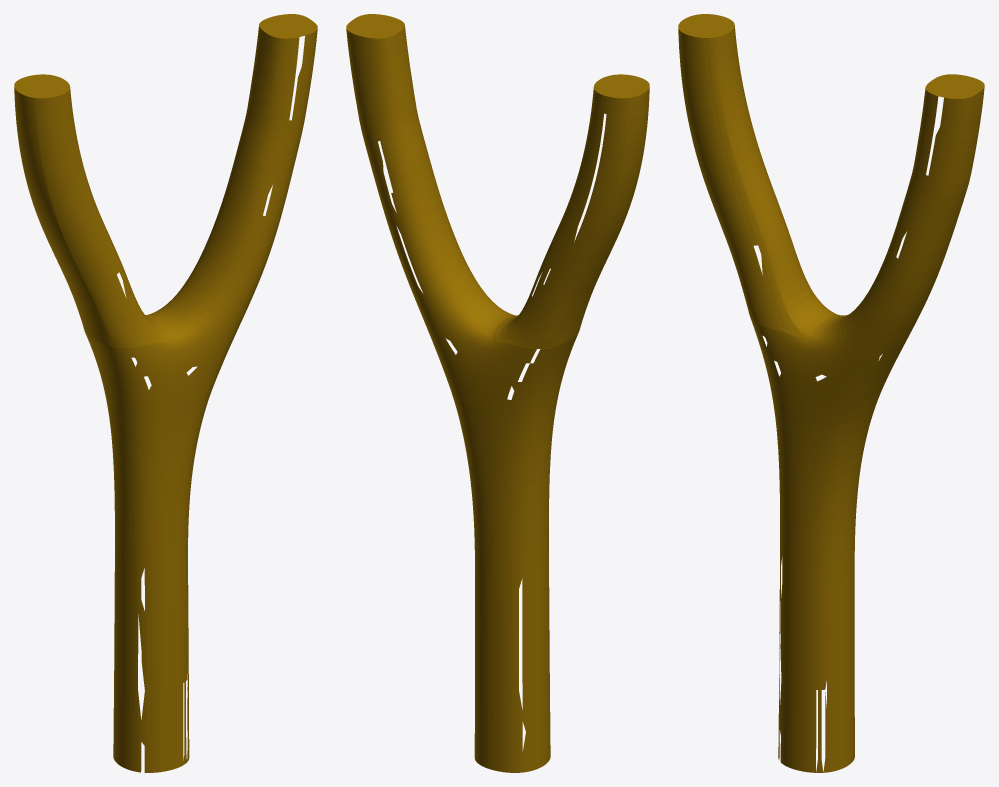
File: 9_decorative.glb
3 views of the same model, side by side, from view 1: azimuth 30°, elevation 25°; view 2: azimuth 150°, elevation 25°; view 3: azimuth 330°, elevation 25° (orthographic).
Parts seen in each view (by area): view 1: skp16A8; view 2: skp16A8; view 3: skp16A8.
Part boxes in pixels (box(x1,y1,x2,y2)): skp16A8: box(14, 14, 317, 772); skp16A8: box(346, 14, 649, 772); skp16A8: box(678, 14, 984, 772).
Size of the model in its own units: 1.46 by 3.32 by 0.3238.
